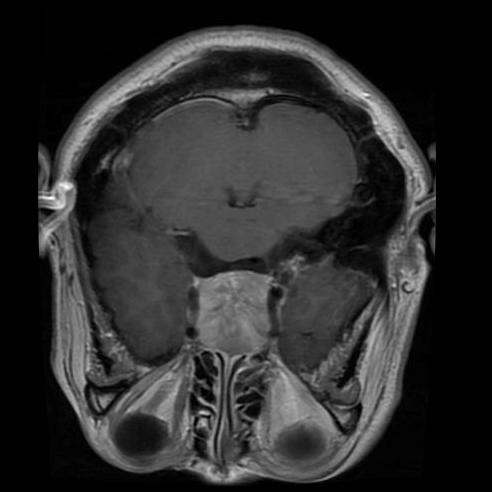Tumour-Pituitary: (188, 266, 275, 357)
